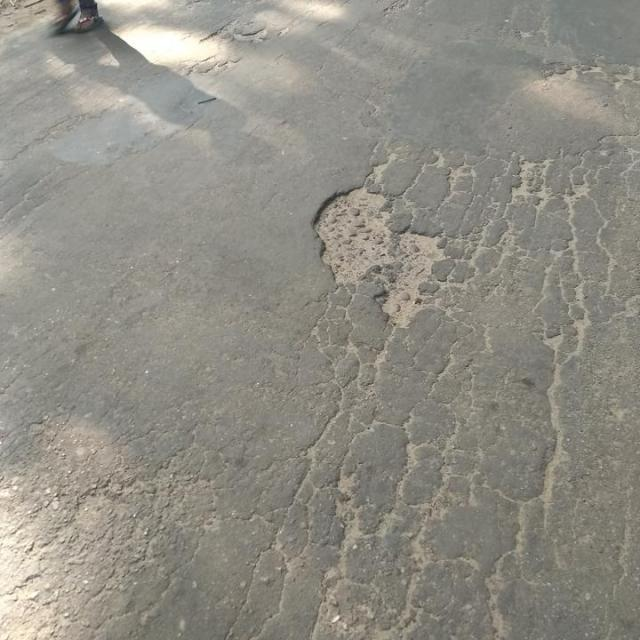Pothole: (312, 180, 453, 332)
